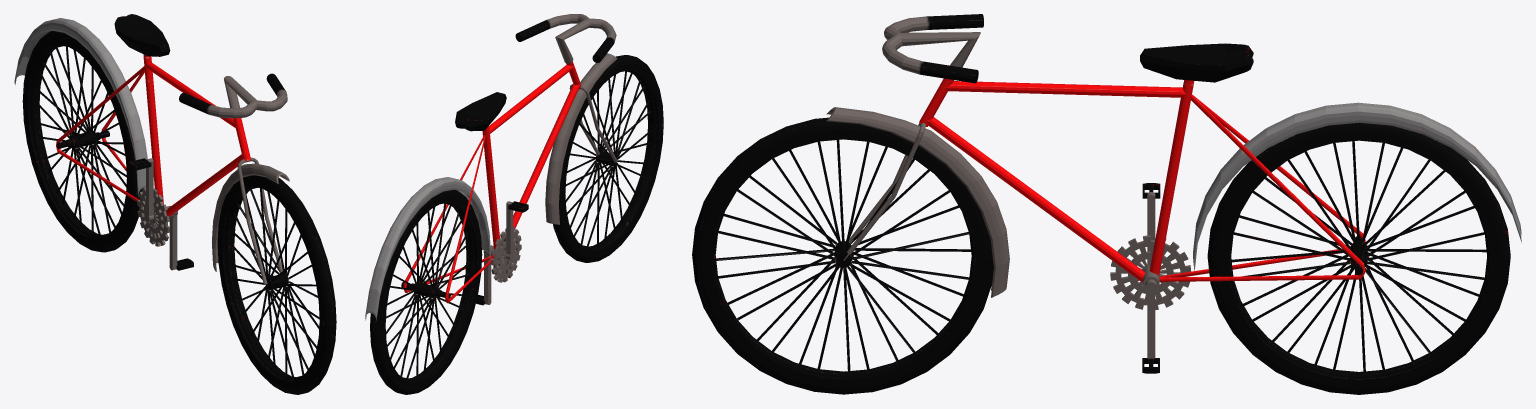
The model's file is Bike001.fbx.
3 views of the same model, side by side, from view 1: azimuth 30°, elevation 25°; view 2: azimuth 150°, elevation 25°; view 3: azimuth 270°, elevation 25° (orthographic). The views are drawn at different scales.
Visible parts, largest first — view 1: Bicyle.002, Bicyle.006, Bicyle, Bicyle.007, Bicyle.003, Bicyle.001; view 2: Bicyle.006, Bicyle.002, Bicyle, Bicyle.007, Bicyle.001, Bicyle.003; view 3: Bicyle.006, Bicyle.002, Bicyle, Bicyle.007, Bicyle.003, Bicyle.001.
Boxes of the visible parts, x1=… form: Bicyle.002: x1=217, y1=175, x2=336, y2=394; Bicyle.006: x1=22, y1=31, x2=142, y2=252; Bicyle: x1=14, y1=14, x2=250, y2=216; Bicyle.007: x1=212, y1=157, x2=289, y2=284; Bicyle.003: x1=137, y1=158, x2=177, y2=270; Bicyle.001: x1=179, y1=73, x2=287, y2=118; Bicyle.006: x1=370, y1=189, x2=482, y2=394; Bicyle.002: x1=553, y1=55, x2=663, y2=262; Bicyle: x1=365, y1=61, x2=581, y2=321; Bicyle.007: x1=545, y1=53, x2=617, y2=224; Bicyle.001: x1=515, y1=14, x2=616, y2=63; Bicyle.003: x1=483, y1=201, x2=521, y2=304; Bicyle.006: x1=1207, y1=122, x2=1510, y2=394; Bicyle.002: x1=692, y1=117, x2=993, y2=394; Bicyle: x1=919, y1=43, x2=1521, y2=282; Bicyle.007: x1=826, y1=107, x2=1009, y2=297; Bicyle.003: x1=1110, y1=192, x2=1191, y2=358; Bicyle.001: x1=882, y1=14, x2=983, y2=83.
Size of the model in its own units: 1235 by 3384 by 7037.
